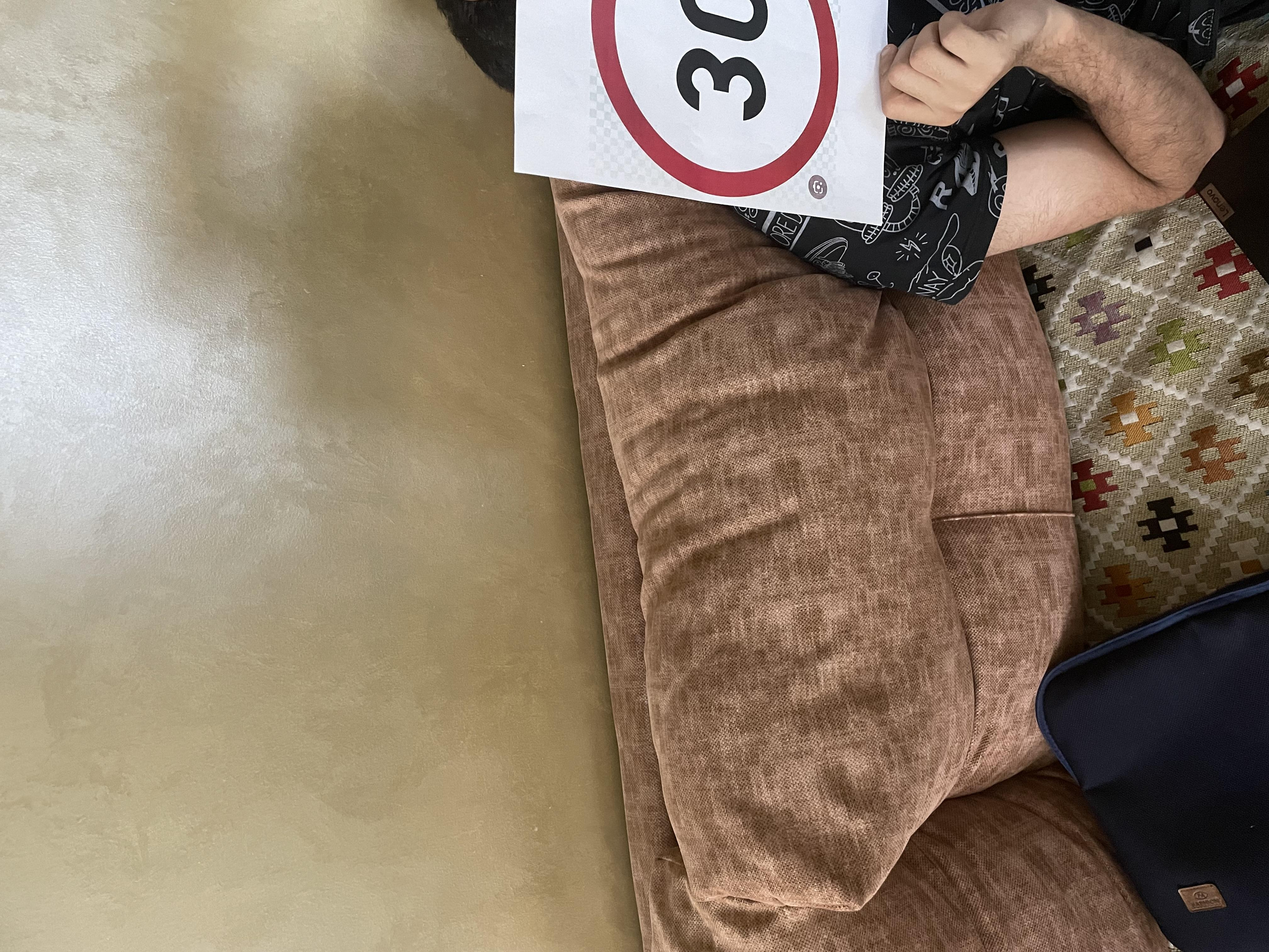30-speed: (1013, 430, 1269, 634)
